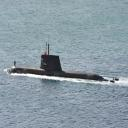submarine: (5, 34, 122, 85)
